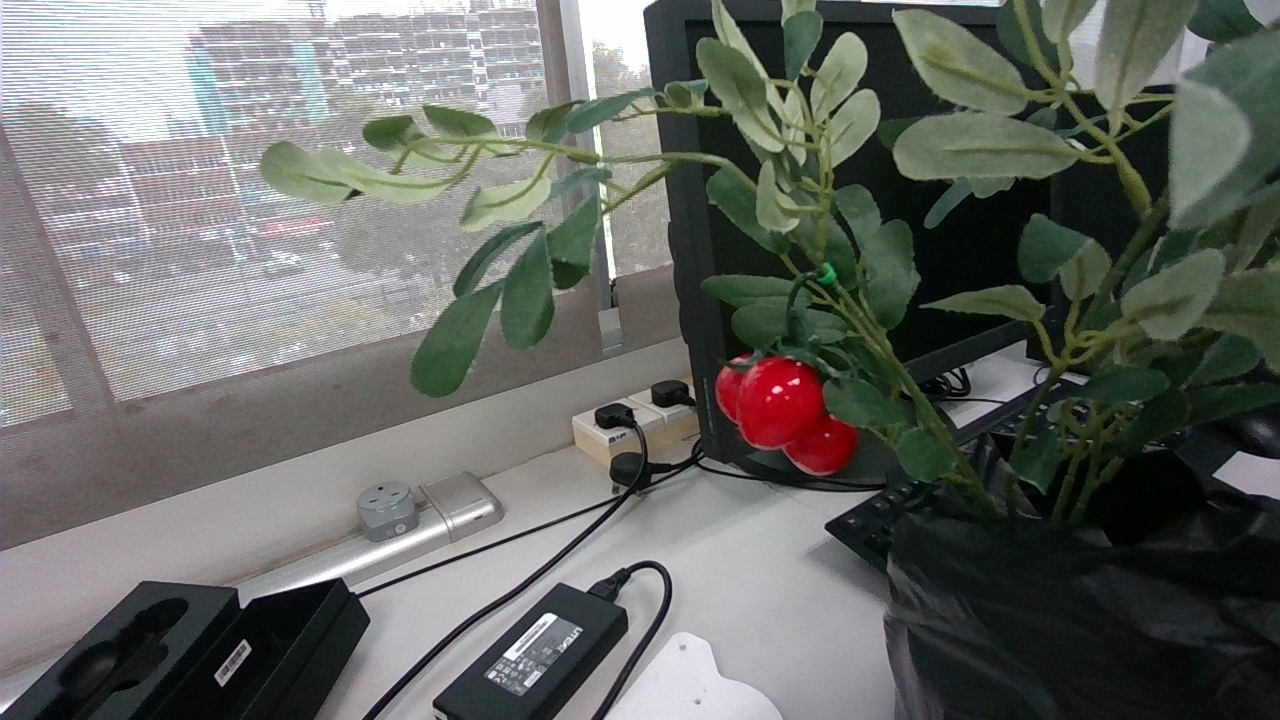peduncle: (787, 271, 814, 306)
strawberry: (736, 356, 825, 450), (783, 413, 860, 476), (716, 353, 752, 422)
